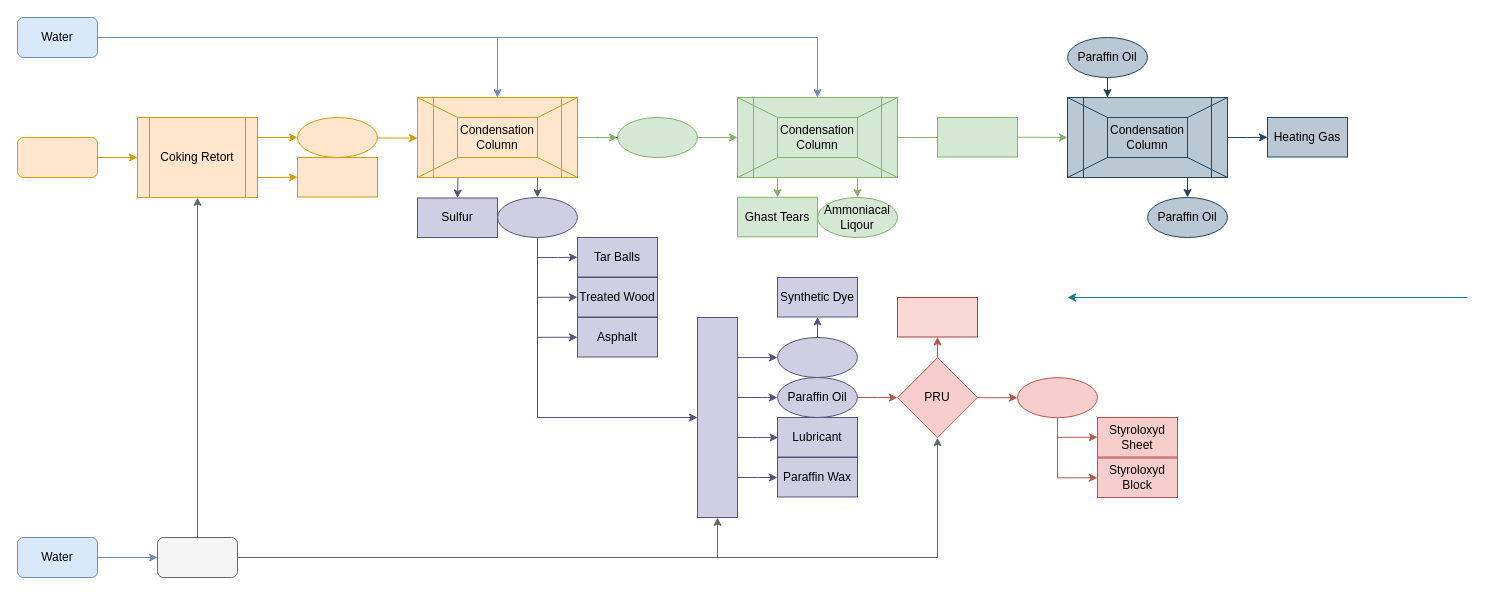
Some shapes in this 1493 by 595 pixel diagram are drawn without their labels. The shapes that lost their labels are listed below. From the top down, each one's centre as x and y in pixels, then its label:
(x=337, y=137): Retort Gas
(x=657, y=137): Ammoniacal Gas
(x=977, y=136): Lighting Gas
(x=57, y=157): Coal
(x=337, y=176): Coal Coke
(x=537, y=217): Coal Tar
(x=937, y=316): Coal Gas
(x=817, y=357): Aniline
(x=717, y=417): Steam Distillation Column
(x=1057, y=397): Raw Styroloxyd
(x=197, y=557): Process Steam
